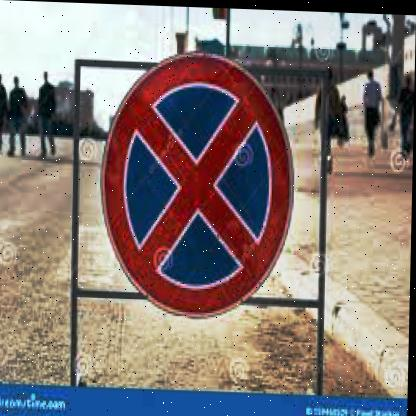No stopping: (94, 57, 300, 322)
